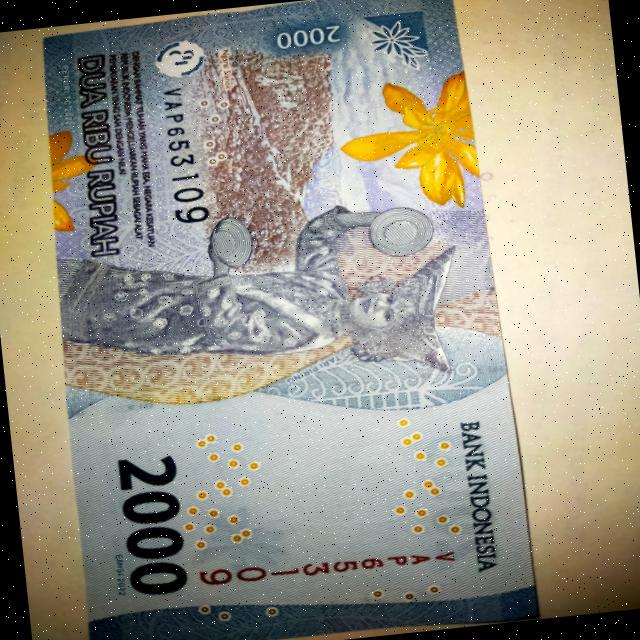2K: (21, 0, 537, 640)
